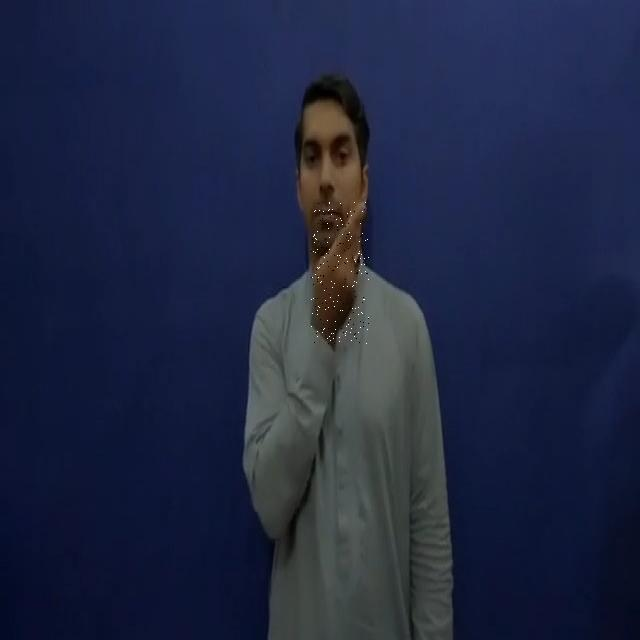napkin: (311, 202, 369, 344)
